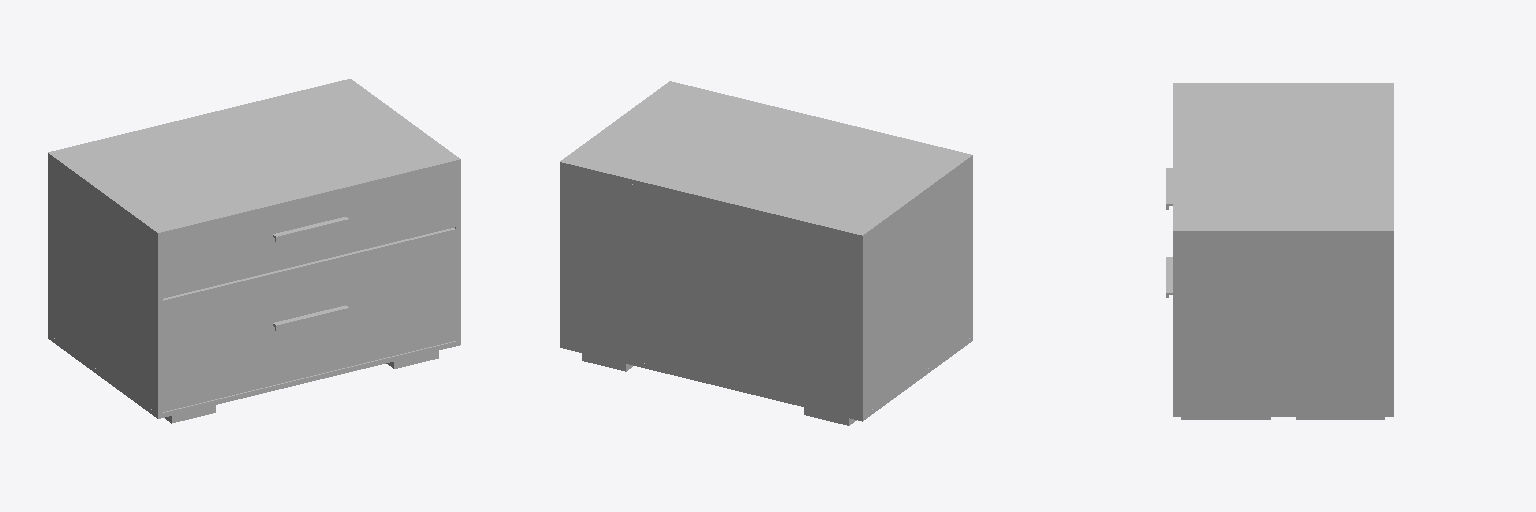
Rendered from Наоми.obj.
3 renders of one model, left to right at view 1: azimuth 30°, elevation 25°; view 2: azimuth 150°, elevation 25°; view 3: azimuth 270°, elevation 25°, orthographic.
Parts seen in each view (by area): view 1: Cube.002_Cube.004, Cube.006_Cube.008, Cube.001_Cube.012, Cube.005_Cube.016; view 2: Cube.002_Cube.004, Cube.005_Cube.016; view 3: Cube.002_Cube.004, Cube.001_Cube.012, Cube.005_Cube.016.
Boxes of the visible parts, x1=… form: Cube.002_Cube.004: x1=48, y1=79, x2=460, y2=418; Cube.006_Cube.008: x1=163, y1=166, x2=455, y2=411; Cube.001_Cube.012: x1=273, y1=217, x2=349, y2=330; Cube.005_Cube.016: x1=165, y1=351, x2=438, y2=423; Cube.002_Cube.004: x1=560, y1=81, x2=972, y2=421; Cube.005_Cube.016: x1=582, y1=353, x2=856, y2=425; Cube.002_Cube.004: x1=1173, y1=83, x2=1393, y2=416; Cube.001_Cube.012: x1=1166, y1=168, x2=1172, y2=297; Cube.005_Cube.016: x1=1181, y1=417, x2=1384, y2=419.
Size of the model in its own units: 1.27 by 0.7906 by 0.8248.